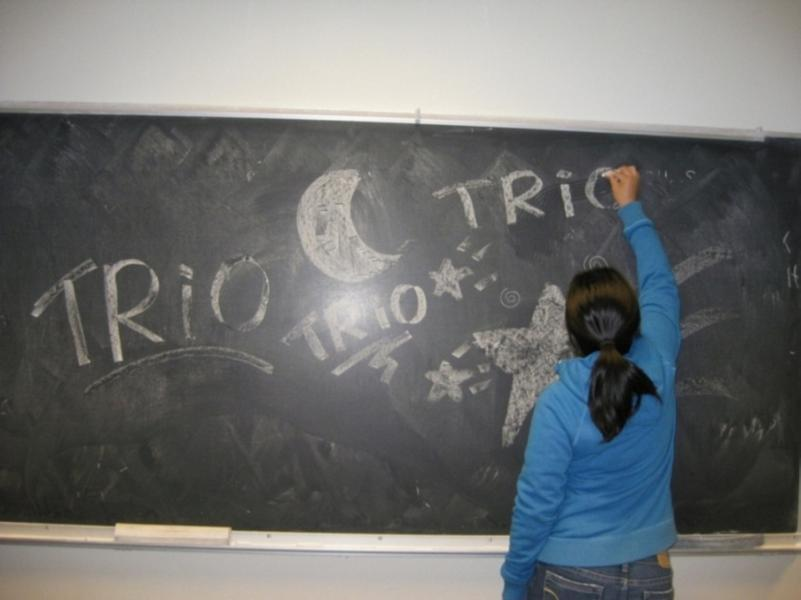person: (503, 163, 682, 599)
